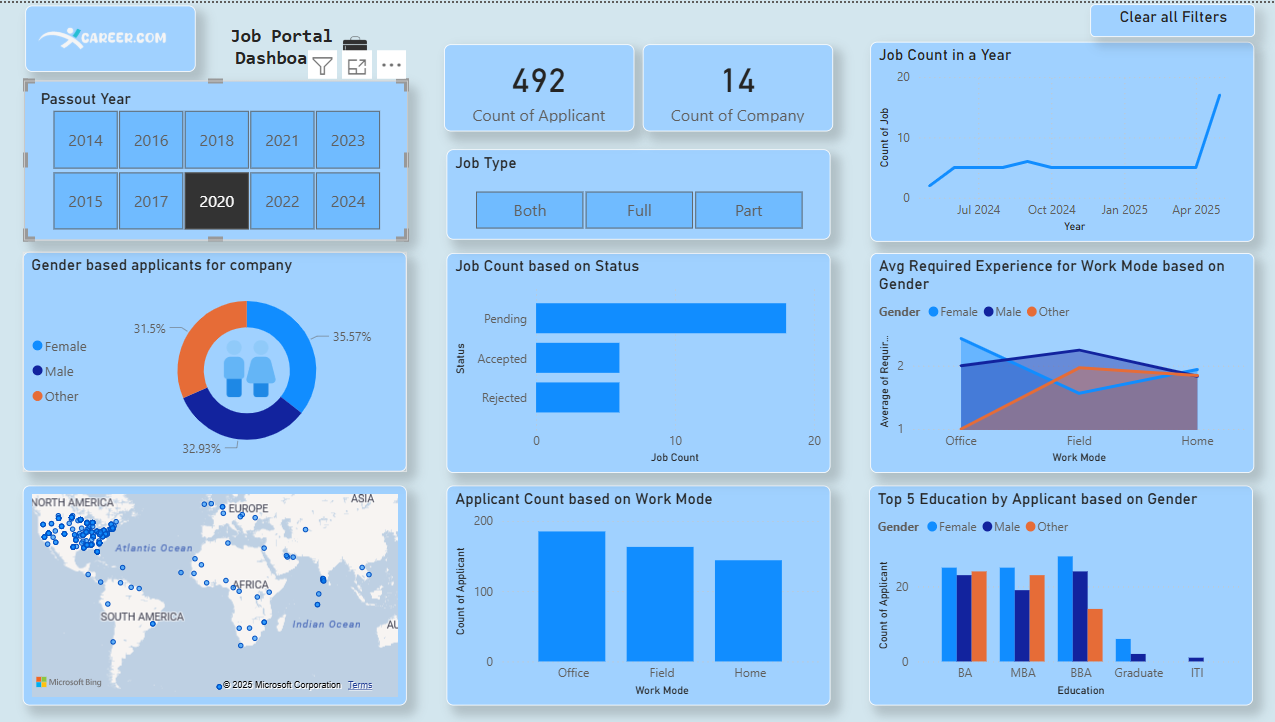

Layout of this report page (visuals, bound fields, positions):
{"tool":"powerbi","page":{"name":"Page 1","canvas":[1280,720],"ordinal":0},"visuals":[{"type":"textbox","box":[158.8,0,247.5,77.5],"z":1000},{"type":"slicer","title":"Passout Year","fields":{"Values":["Job Portal Data - final_applications_dataset.PassedOut Year"]},"box":[25,77.5,383.8,160],"z":2000},{"type":"donutChart","title":"Gender based applicants for company","fields":{"Category":["Job Portal Data - final_applications_dataset.Gender"],"Y":["CountNonNull(Job Portal Data - final_applications_dataset.Company)"]},"box":[23.8,248.8,384,220],"z":3000,"group":"g1"},{"type":"image","box":[217.6,332.6,66.2,66.2],"z":3500,"group":"g1"},{"type":"map","fields":{"Category":["Job Portal Data - final_applications_dataset.Candidate Place"]},"box":[23.8,482.5,384,220],"z":4000},{"type":"clusteredColumnChart","title":"Applicant Count based on  Work Mode","fields":{"Category":["Job Portal Data - final_applications_dataset.Work Mode"],"Y":["CountNonNull(Job Portal Data - final_applications_dataset.Applicant)"]},"box":[447.5,482.5,383.8,220],"z":5000},{"type":"clusteredColumnChart","title":"Top 5 Education by Applicant based on Gender","fields":{"Category":["Job Portal Data - final_applications_dataset.Education"],"Series":["Job Portal Data - final_applications_dataset.Gender"],"Y":["CountNonNull(Job Portal Data - final_applications_dataset.Applicant)"]},"box":[870,482.5,383.8,220],"z":6000},{"type":"clusteredBarChart","title":"Job Count based on Status","fields":{"Category":["Job Portal Data - final_applications_dataset.Status"],"Y":["Count(Job Portal Data - final_applications_dataset.Job)"]},"box":[447.5,250,383.8,220],"z":7000},{"type":"lineChart","title":"Job Count in a Year","fields":{"Y":["Count(Job Portal Data - final_applications_dataset.Job)"],"Category":["Job Portal Data - final_applications_dataset.Start Date.Variation.Date Hierarchy.Year","Job Portal Data - final_applications_dataset.Start Date.Variation.Date Hierarchy.Month","Job Portal Data - final_applications_dataset.Start Date.Variation.Date Hierarchy.Day"]},"box":[871.2,38.8,383.8,200],"z":8000},{"type":"areaChart","title":"Avg Required Experience for Work Mode based on Gender","fields":{"Category":["Job Portal Data - final_applications_dataset.Work Mode"],"Series":["Job Portal Data - final_applications_dataset.Gender"],"Y":["Avg(Job Portal Data - final_applications_dataset.Required Experience)"]},"box":[871.2,250,383.8,220],"z":9000},{"type":"slicer","title":"Job Type","fields":{"Values":["Job Portal Data - final_applications_dataset.Job Type"]},"box":[447.5,146.2,383.8,90],"z":10000},{"type":"actionButton","title":"Clear all Filters","box":[1091.2,1.2,165,32.5],"z":11000},{"type":"card","fields":{"Values":["CountNonNull(Job Portal Data - final_applications_dataset.Applicant)"]},"box":[445,41.2,190,87.5],"z":12000},{"type":"card","fields":{"Values":["Count(Job Portal Data - final_applications_dataset.Company)"]},"box":[643.8,41.2,190,87.5],"z":13000},{"type":"image","box":[26.2,2.5,170,66.2],"z":14000},{"type":"image","box":[328.8,17.5,55,51.2],"z":14502},{"type":"group","id":"g1","title":"Group 1","box":[23.8,248.8,384,220],"z":14503}]}

Visuals, with their boxes in screenshot pixels (x1, y1, x2, y2):
textbox: bbox=[176, 20, 419, 96]
"Passout Year" slicer: bbox=[44, 96, 422, 253]
"Gender based applicants for company" donutChart: bbox=[43, 264, 421, 480]
image: bbox=[234, 347, 299, 412]
map - Job Portal Data - final_applications_dataset.Candidate Place: bbox=[43, 494, 421, 710]
"Applicant Count based on  Work Mode" clusteredColumnChart: bbox=[460, 494, 837, 710]
"Top 5 Education by Applicant based on Gender" clusteredColumnChart: bbox=[875, 494, 1252, 710]
"Job Count based on Status" clusteredBarChart: bbox=[460, 265, 837, 482]
"Job Count in a Year" lineChart: bbox=[876, 58, 1253, 254]
"Avg Required Experience for Work Mode based on Gender" areaChart: bbox=[876, 265, 1253, 482]
"Job Type" slicer: bbox=[460, 163, 837, 252]
"Clear all Filters" actionButton: bbox=[1092, 21, 1254, 53]
card - CountNonNull(Job Portal Data - final_applications_dataset.Applicant): bbox=[457, 60, 644, 146]
card - Count(Job Portal Data - final_applications_dataset.Company): bbox=[653, 60, 839, 146]
image: bbox=[46, 22, 213, 87]
image: bbox=[343, 37, 397, 87]
"Group 1" group: bbox=[43, 264, 421, 480]
